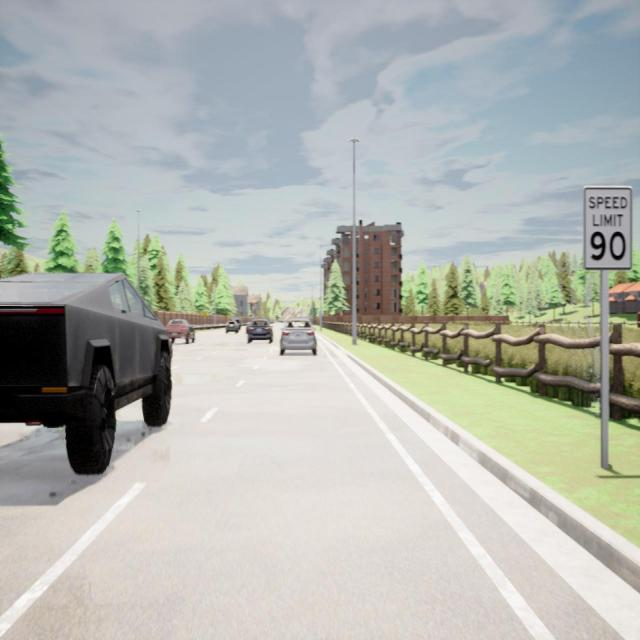Traffic_Signs: (584, 186, 632, 270)
Vehicle: (0, 274, 171, 474), (280, 317, 317, 356), (165, 318, 195, 344), (248, 318, 274, 344), (226, 320, 238, 334)
